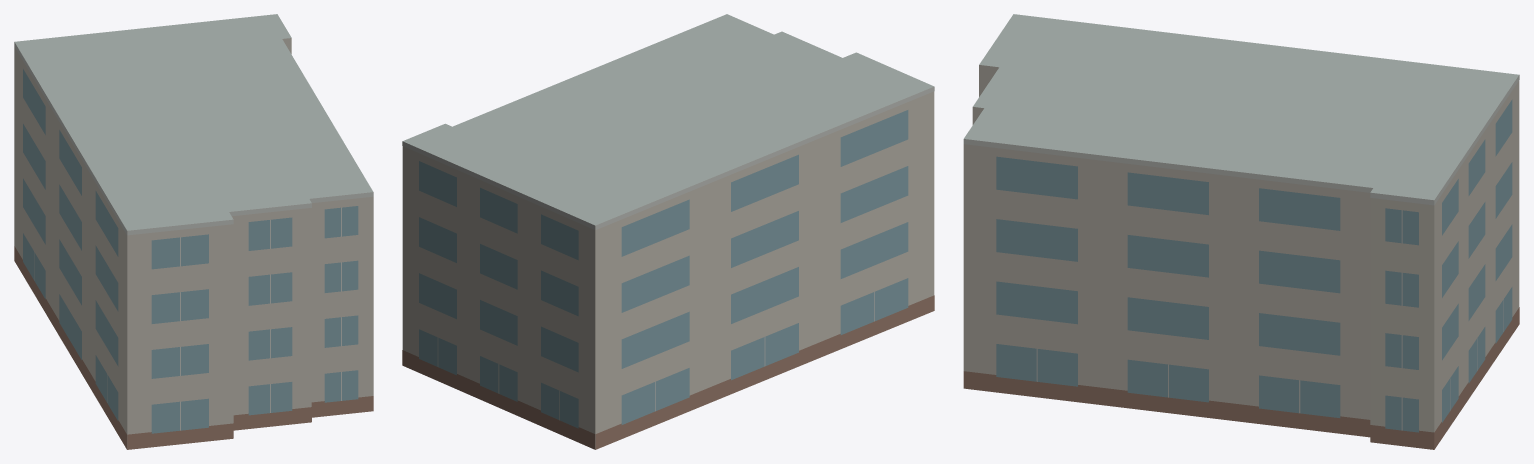
The model's file is survey-upis-32805098.glb.
The picture shows the model from 3 angles, left to right: view 1: azimuth 30°, elevation 25°; view 2: azimuth 150°, elevation 25°; view 3: azimuth 270°, elevation 25°; orthographic projection. The views are drawn at different scales.
Visible parts, largest first — view 1: survey-upis-32805098.tmp; view 2: survey-upis-32805098.tmp; view 3: survey-upis-32805098.tmp.
Part boxes in pixels (x1,y1,x2,y2): survey-upis-32805098.tmp: (14,14,373,449); survey-upis-32805098.tmp: (402,14,934,449); survey-upis-32805098.tmp: (963,14,1519,449).
Bounding box in the file's own units: 18.73 × 11.7 × 23.62.
